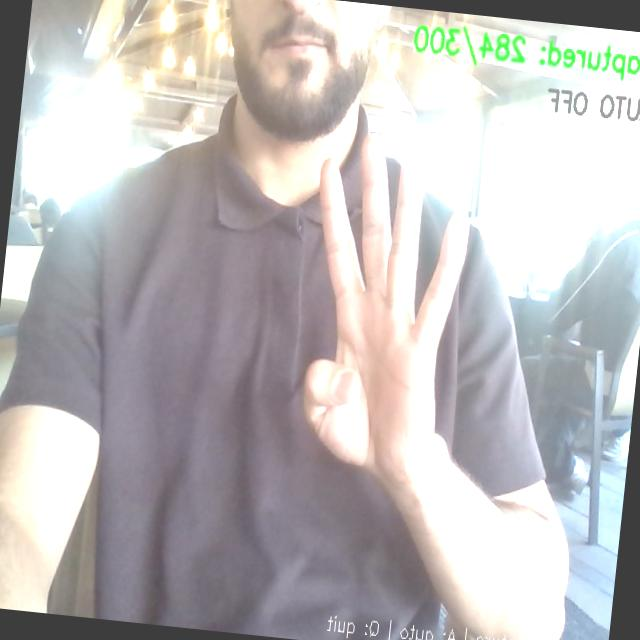Hand: (304, 137, 468, 484)
